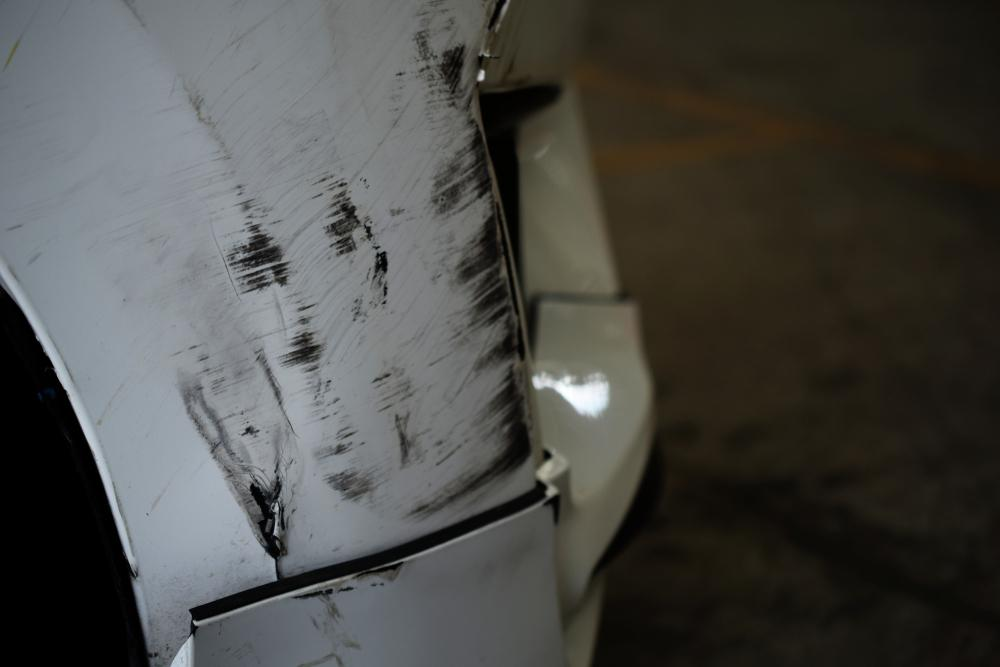scratch: (0, 0, 535, 572), (293, 564, 407, 667)
